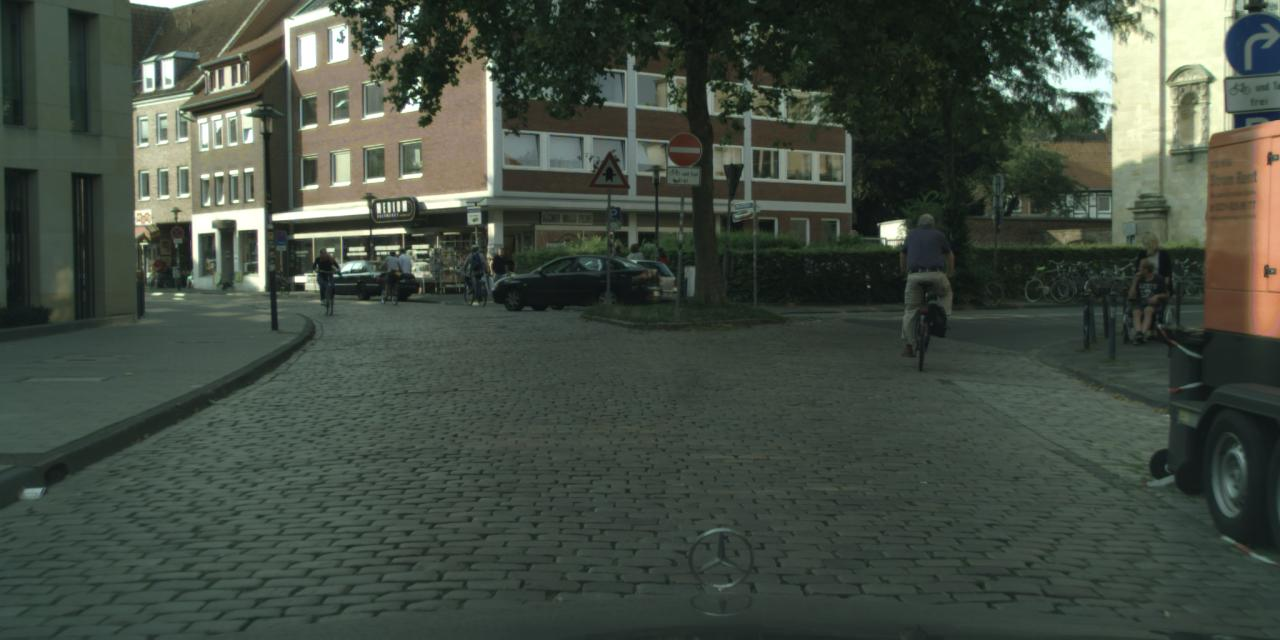ped: (898, 212, 951, 342), (1128, 231, 1172, 338), (314, 248, 337, 304), (490, 246, 510, 296), (464, 244, 484, 293), (392, 248, 412, 296), (626, 243, 645, 292), (607, 245, 626, 293), (652, 247, 670, 291), (382, 250, 399, 296), (403, 250, 418, 290), (152, 254, 165, 287)
